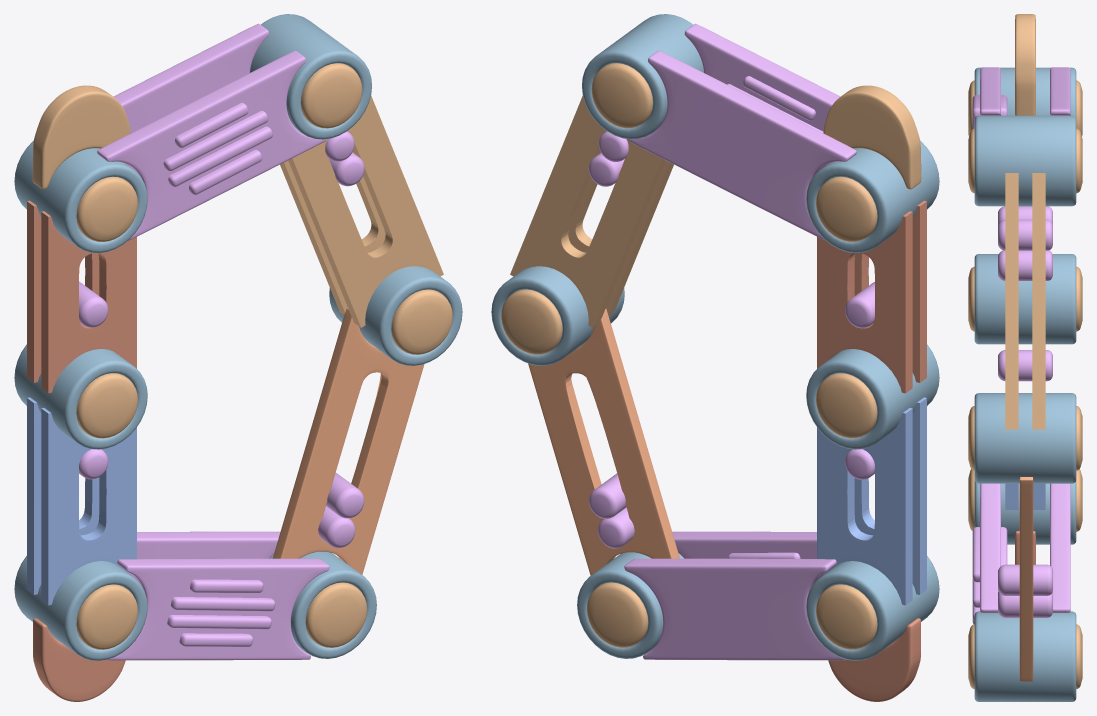
3 views of the same model, side by side, from view 1: azimuth 30°, elevation 25°; view 2: azimuth 150°, elevation 25°; view 3: azimuth 270°, elevation 25° (orthographic). The views are drawn at different scales.
Visible parts, largest first — view 1: Cube.052; view 2: Cube.052; view 3: Cube.052.
Boxes of the visible parts, <box> form: Cube.052: <box>14,14,462,701</box>; Cube.052: <box>491,14,939,701</box>; Cube.052: <box>968,14,1082,701</box>.
Bounding box in the file's own units: 2.22 × 3.23 × 0.5799.
